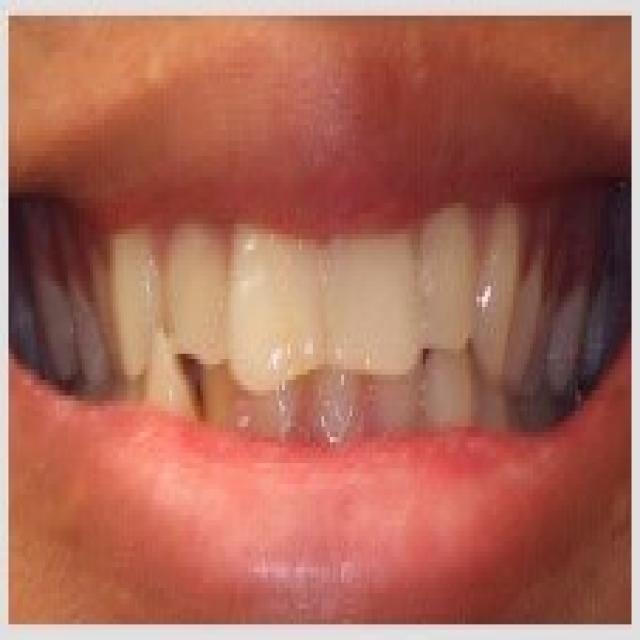tooth: (321, 234, 423, 370), (237, 245, 324, 390), (166, 224, 228, 359), (417, 213, 474, 359), (479, 213, 516, 369), (119, 239, 152, 375), (206, 364, 256, 453), (248, 374, 305, 448), (420, 359, 471, 427), (150, 343, 186, 427), (313, 370, 355, 442), (372, 396, 409, 437)
